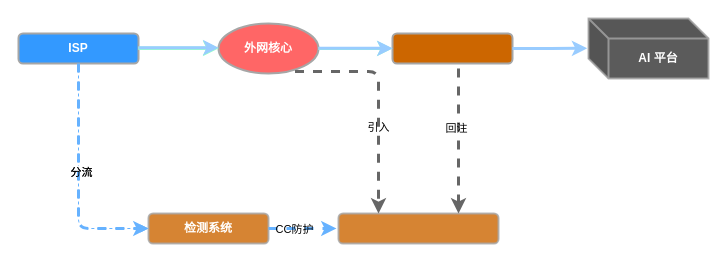
This 726x261 diagram has some shape labels left out. The shapes that lost their labels are listed below. From the top down, each one's box as (x1, y1, x2, y2) in pixels, then its label:
(391, 32, 513, 64): 智能网关
(337, 212, 499, 244): BCS
